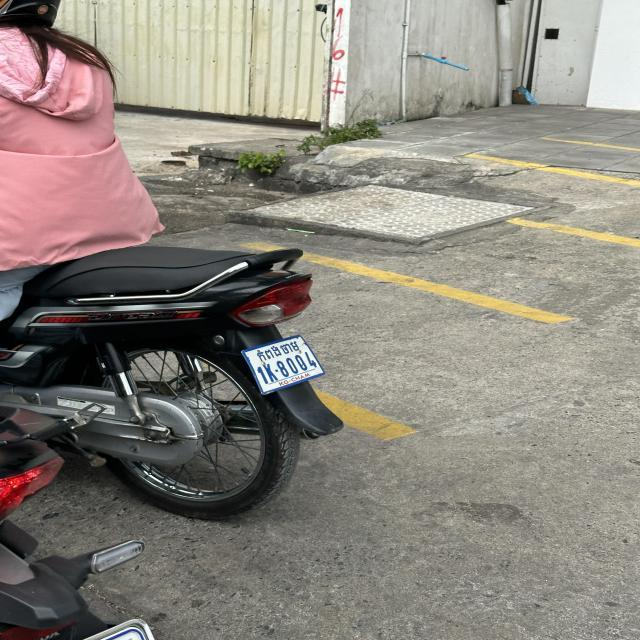Kampong_Cham: (255, 339, 300, 361)
